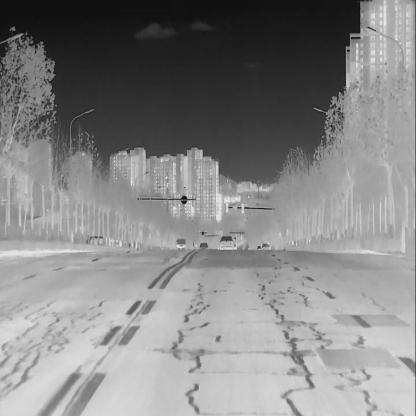car: (218, 234, 235, 250), (199, 241, 208, 250), (260, 242, 270, 250), (256, 244, 262, 251)
truck: (176, 236, 186, 250)
